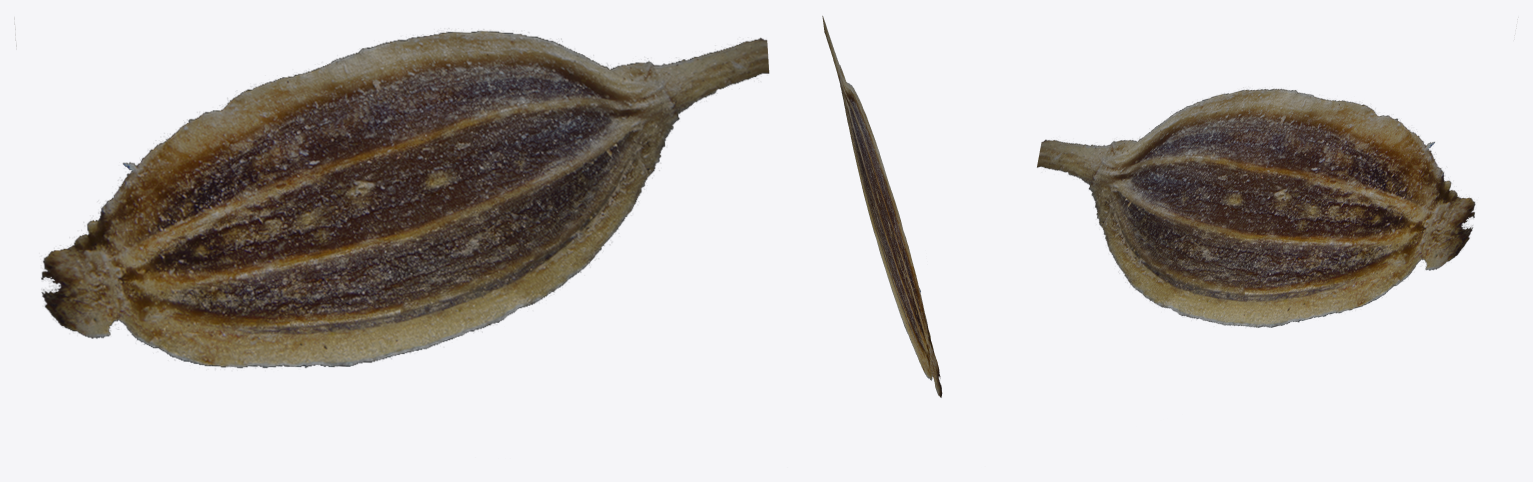
Rendered from grainesol.glb.
3 views of the same model, side by side, from view 1: azimuth 30°, elevation 25°; view 2: azimuth 150°, elevation 25°; view 3: azimuth 270°, elevation 25° (orthographic). The views are drawn at different scales.
Visible parts, largest first — view 1: seeds_0023_Calque-20; view 2: seeds_0023_Calque-20; view 3: seeds_0023_Calque-20.
Part boxes in pixels (box(x1,y1,x2,y2)): seeds_0023_Calque-20: box(14, 18, 769, 368); seeds_0023_Calque-20: box(822, 16, 942, 397); seeds_0023_Calque-20: box(1037, 88, 1475, 327).
Size of the model in its own units: 0.2226 by 0.2129 by 0.2641.
Materials: 1 (1 with a texture image).
